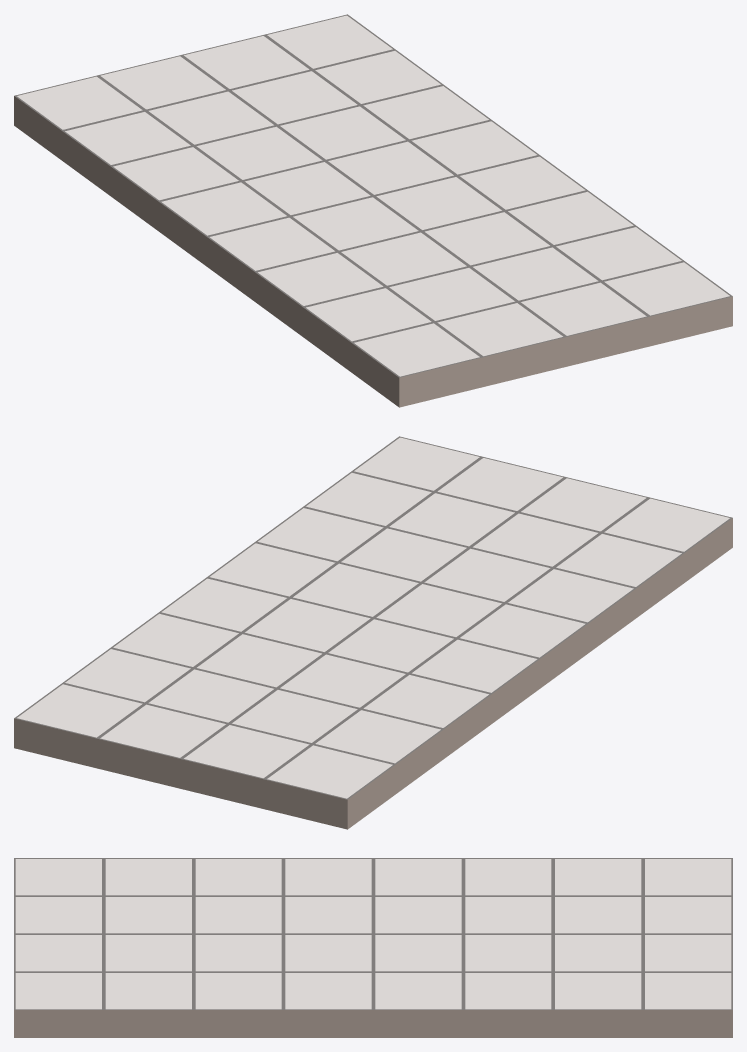
The model's file is Floor_15.fbx.
3 views of the same model, one above another, from view 1: azimuth 30°, elevation 25°; view 2: azimuth 150°, elevation 25°; view 3: azimuth 270°, elevation 25° (orthographic). The views are drawn at different scales.
Parts seen in each view (by area): view 1: Floor_15; view 2: Floor_15; view 3: Floor_15.
Boxes of the visible parts, x1,y1,x2,y2 form: Floor_15: (14,14,732,407); Floor_15: (14,436,732,829); Floor_15: (14,858,732,1037).
Size of the model in its own units: 130 by 11.07 by 259.
